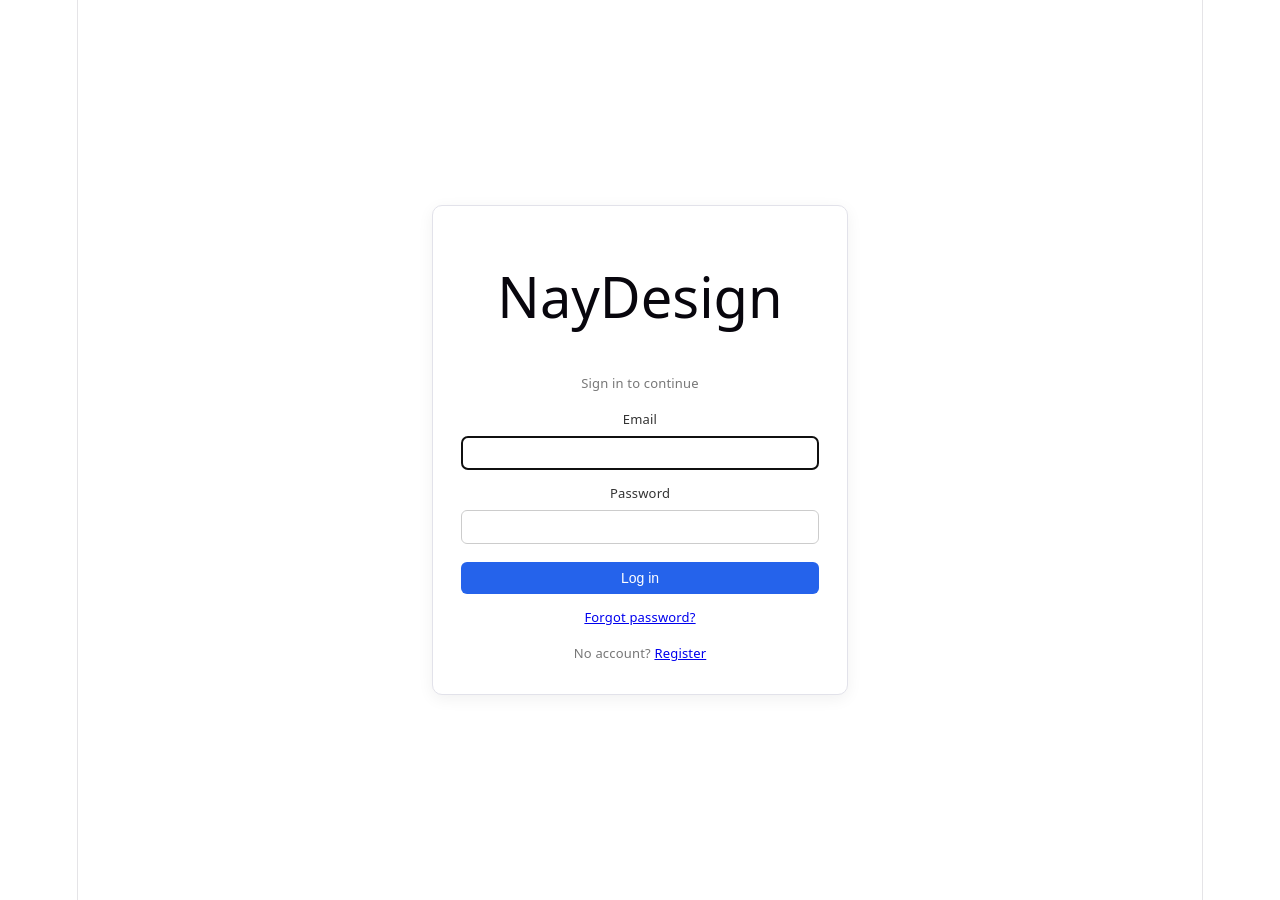
LoginPage › shows an error message and stays on the page on invalid credentials
Type "alice@example.com" into the field labelled "Email".
click(640, 453); type("alice@example.com")  # box [461,436,819,470]
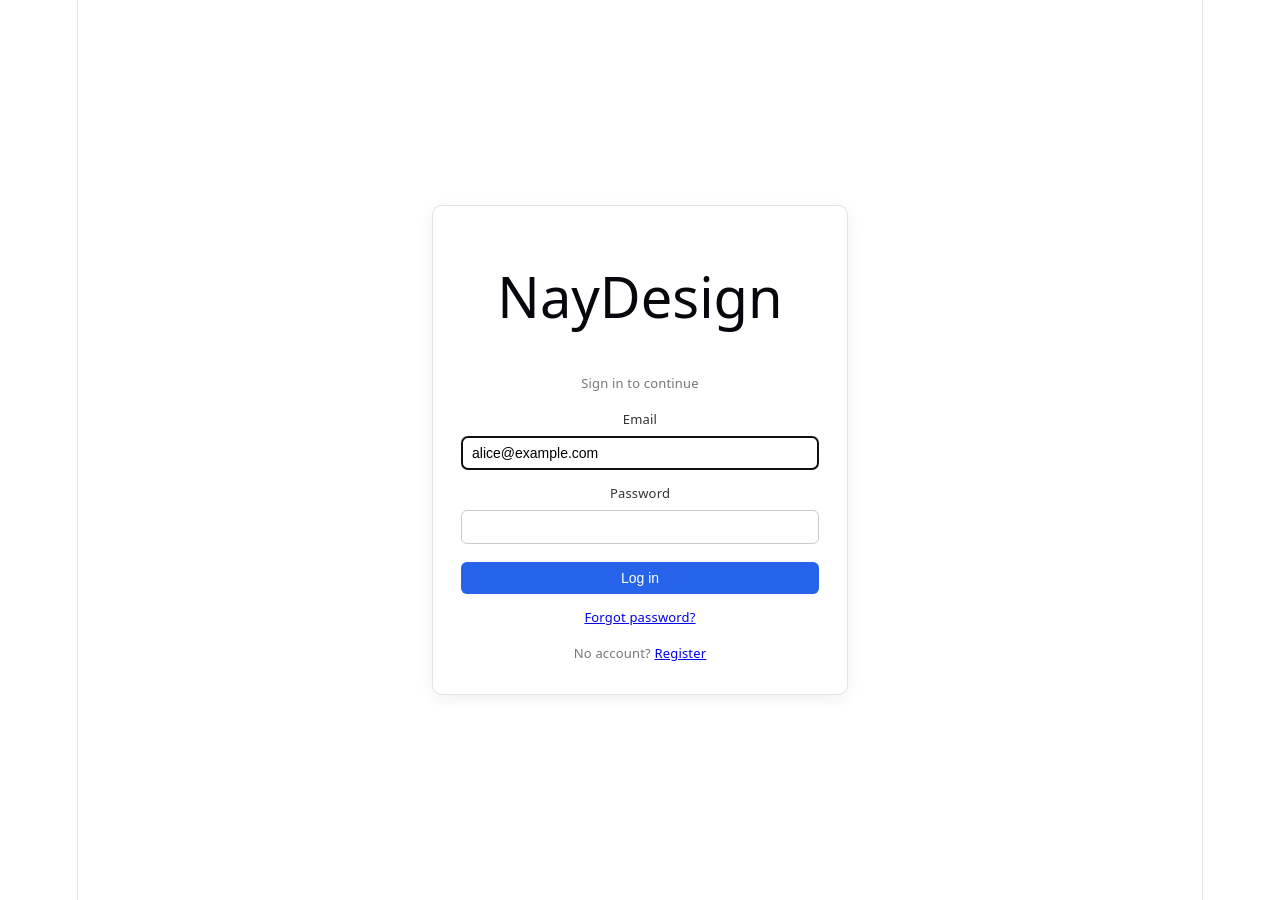
Type "wrong-password" into the password field labelled "Password".
click(640, 527); type("wrong-password")  # box [461,510,819,544]
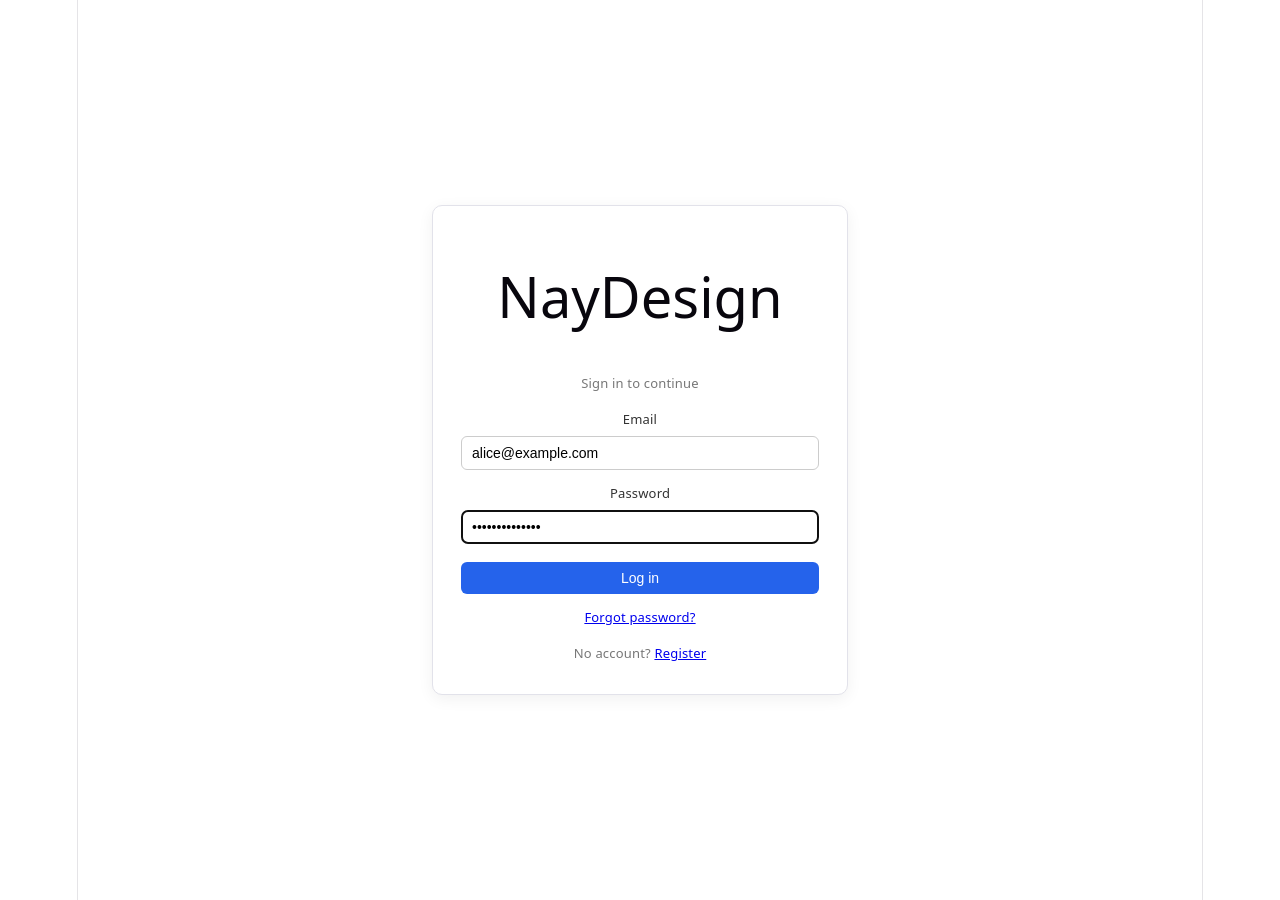
Click the button "Log in".
click(640, 578)  # box [461,562,819,594]
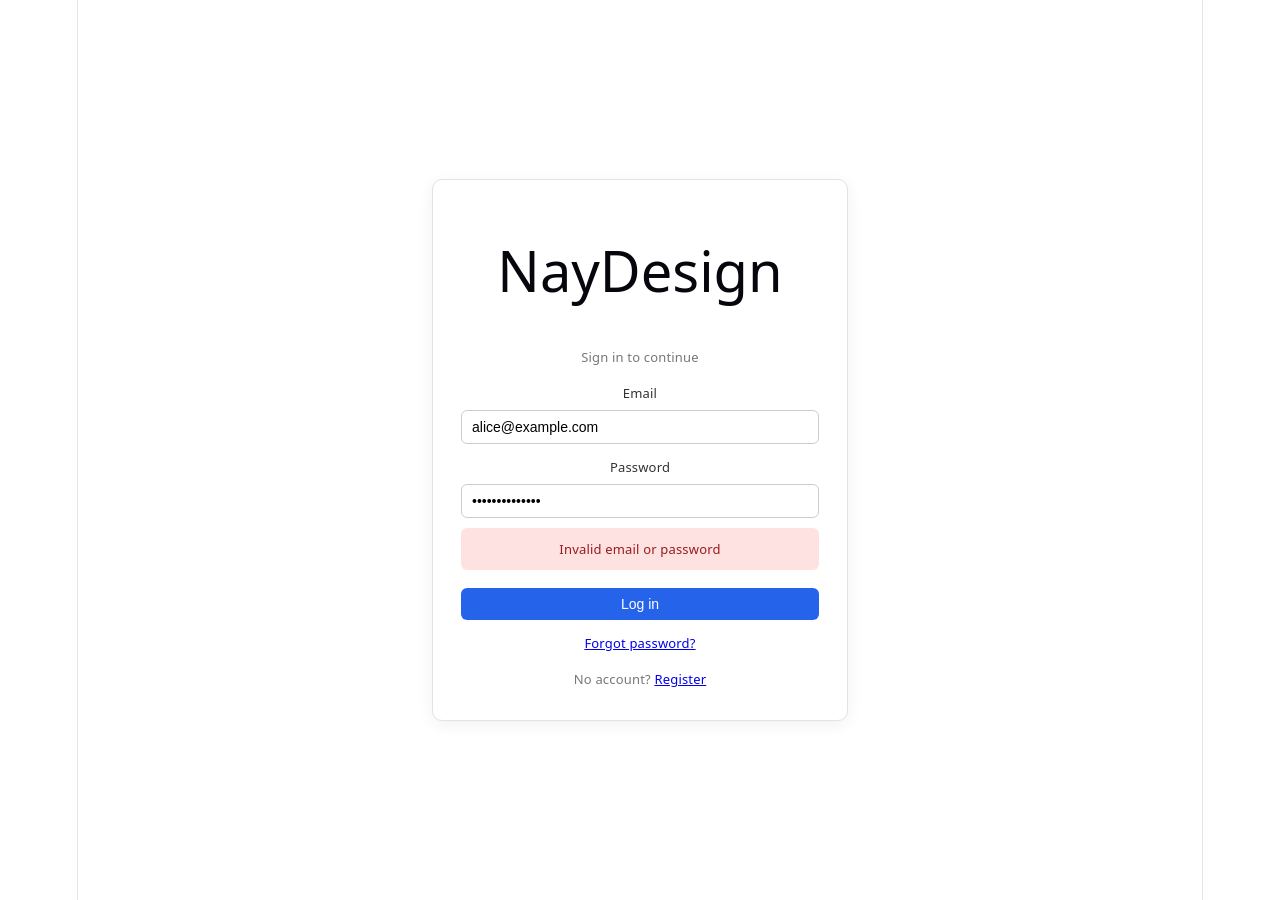
Expected: the text "Invalid email or password" is shown, [461,528,819,570]
